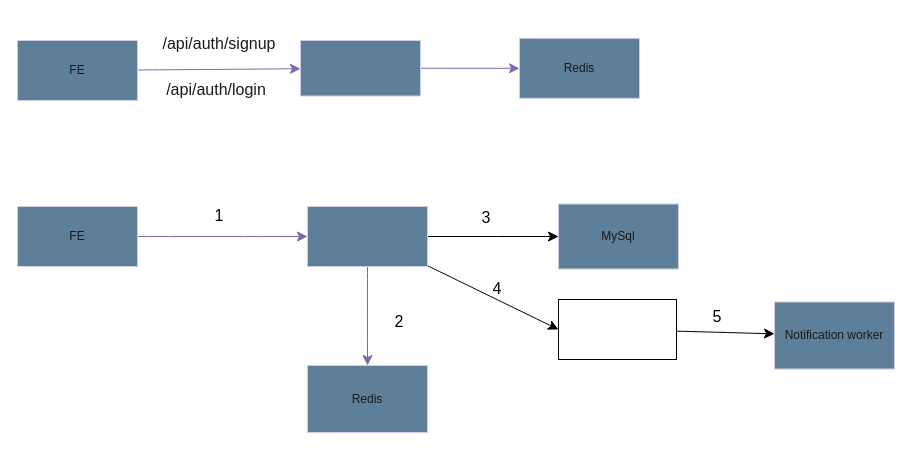
The diagram is 912 pixels wide and 450 high, and some of its shapes have lost their labels. The box of each missing label's shape, as (x1, y1, x2, y2) in pixels:
BE: (306, 206, 428, 266)
OAUTH 2.0: (300, 40, 420, 96)
Queue RabbitMQ: (558, 298, 676, 360)
